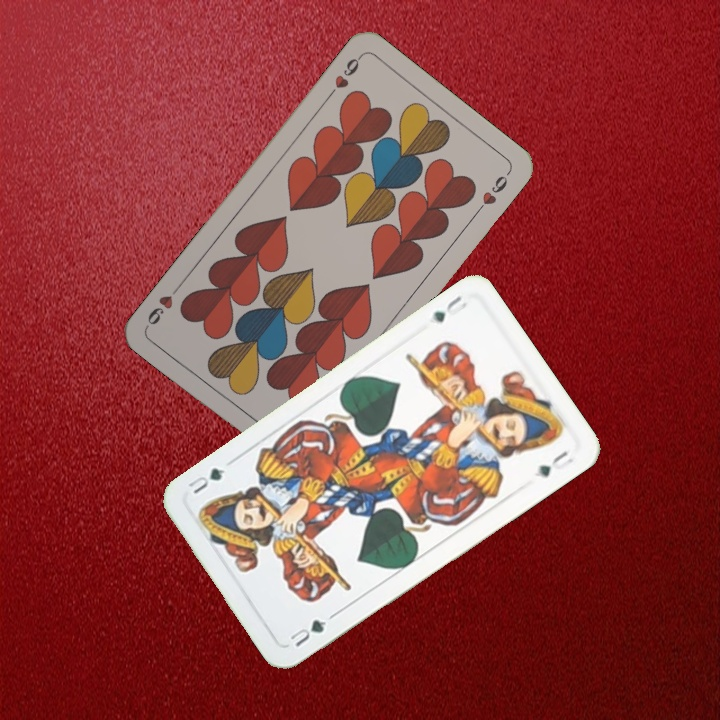GU: (286, 615, 329, 650), (428, 291, 470, 325)
H9: (323, 52, 365, 102)
